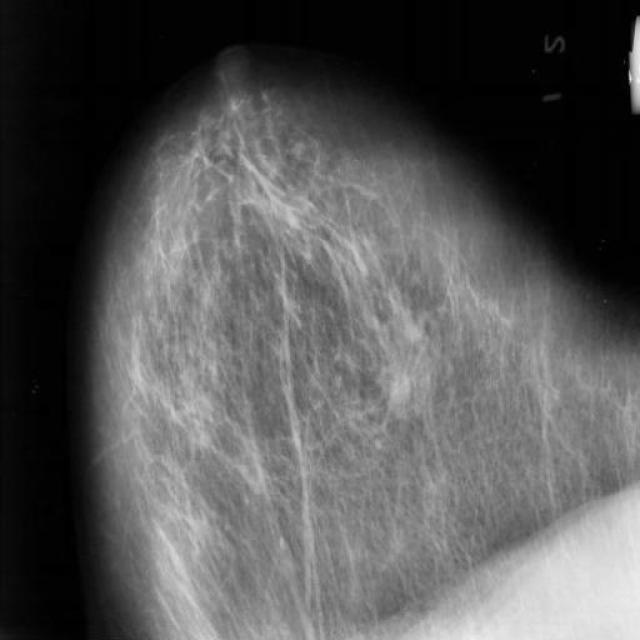cancer: (402, 182, 450, 250)
